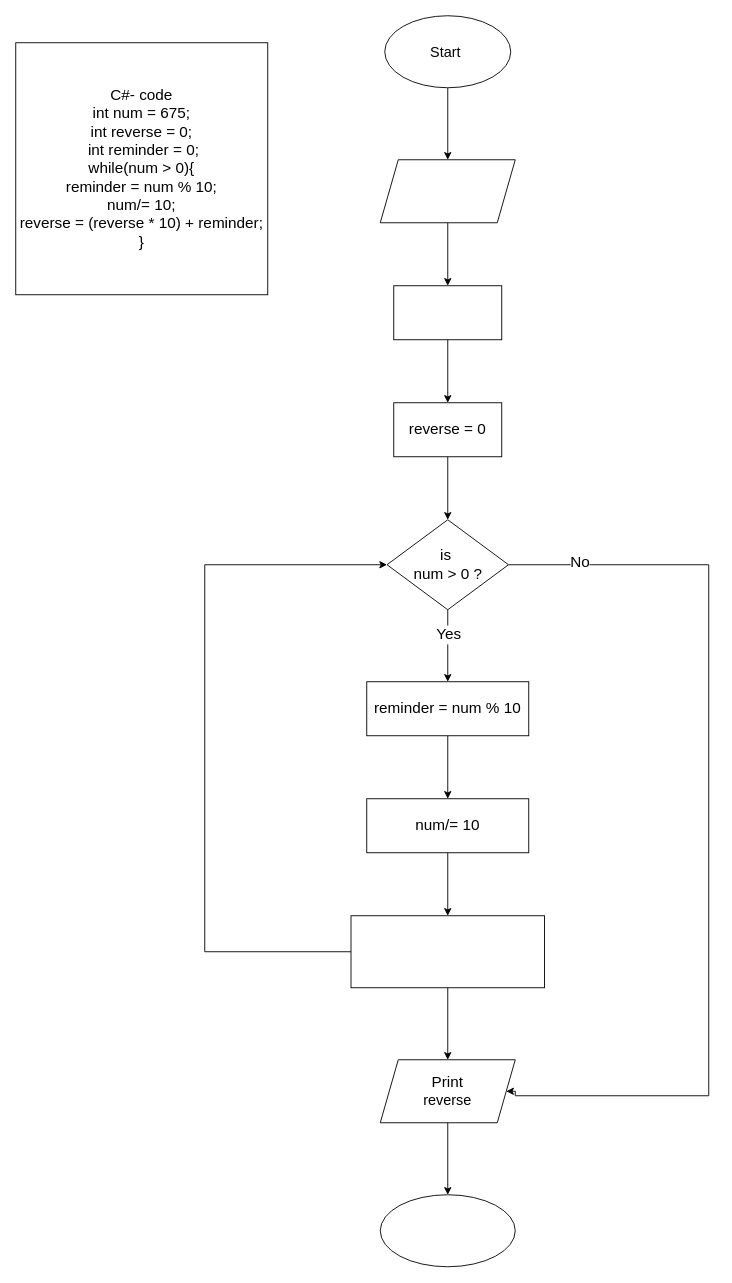
This 732x1283 diagram has some shape labels left out. Each missing label, with the centre of its shape:
"End" belongs at point 447,1230.
"Input num= 675" belongs at point 447,191.
"reminder = 0" belongs at point 447,312.
"reverse = (reverse*10)+reminder" belongs at point 447,951.
